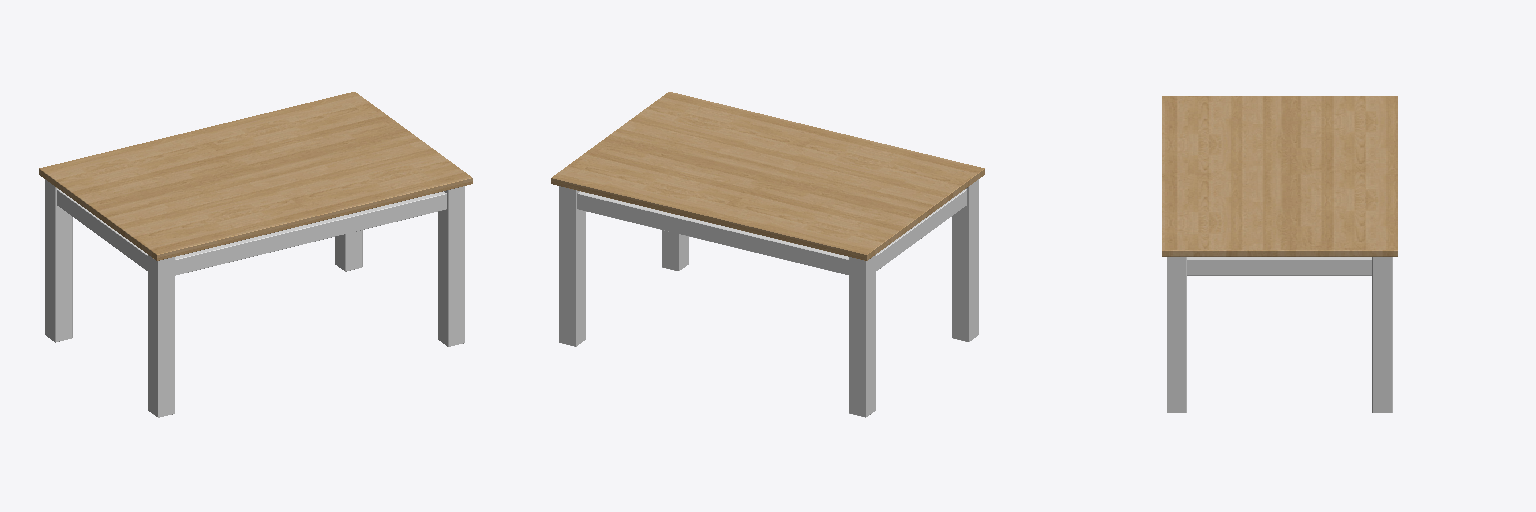
3 renders of one model, left to right at view 1: azimuth 30°, elevation 25°; view 2: azimuth 150°, elevation 25°; view 3: azimuth 270°, elevation 25°, orthographic.
Parts seen in each view (by area): view 1: Table-top_Plane.015, Table-Legs_Plane.032, Table-Front-Cross-sections-other_Plane.034, Table-Front-Cross-sections_Plane.033; view 2: Table-top_Plane.015, Table-Legs_Plane.032, Table-Front-Cross-sections-other_Plane.034, Table-Front-Cross-sections_Plane.033; view 3: Table-top_Plane.015, Table-Legs_Plane.032, Table-Front-Cross-sections_Plane.033.
Part boxes in pixels (x1,y1,x2,y2): Table-top_Plane.015: (39, 92, 472, 260); Table-Legs_Plane.032: (45, 179, 464, 417); Table-Front-Cross-sections-other_Plane.034: (175, 191, 446, 275); Table-Front-Cross-sections_Plane.033: (57, 189, 147, 270); Table-top_Plane.015: (551, 92, 984, 260); Table-Legs_Plane.032: (559, 179, 978, 417); Table-Front-Cross-sections-other_Plane.034: (577, 191, 848, 274); Table-Front-Cross-sections_Plane.033: (876, 189, 966, 270); Table-top_Plane.015: (1162, 96, 1397, 256); Table-Legs_Plane.032: (1167, 257, 1392, 412); Table-Front-Cross-sections_Plane.033: (1187, 257, 1371, 275).
Size of the model in its own units: 144 by 72.43 by 93.41.
2 materials, 1 textured.